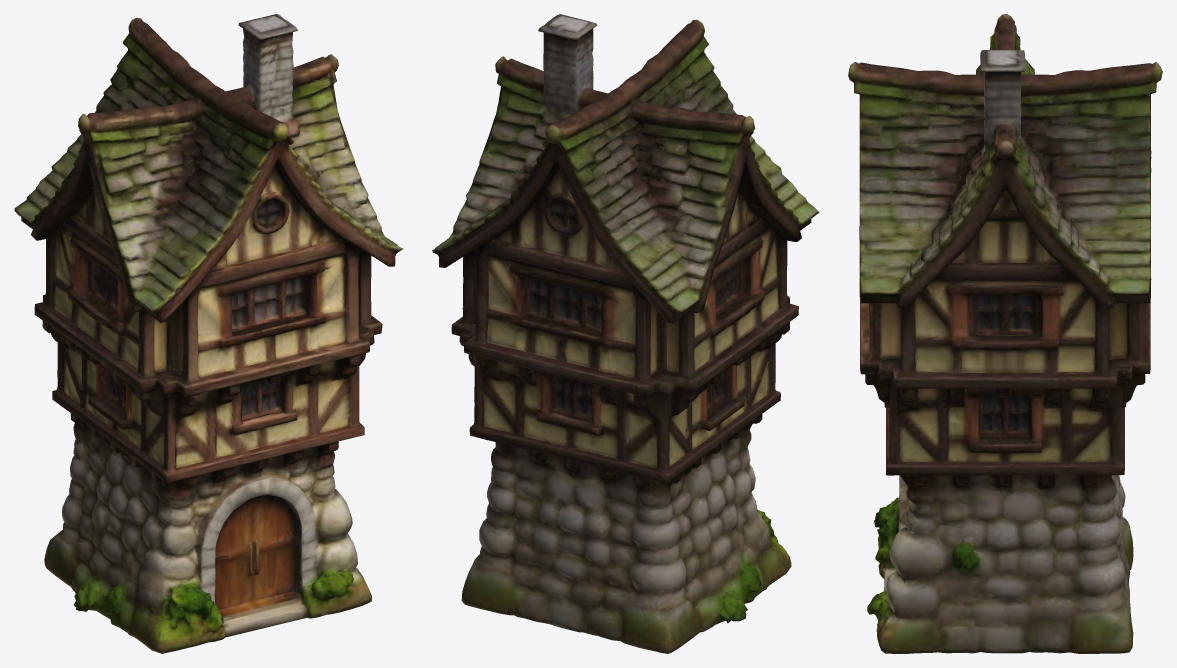
File: torre-madeira.glb
3 renders of one model, left to right at view 1: azimuth 30°, elevation 25°; view 2: azimuth 150°, elevation 25°; view 3: azimuth 270°, elevation 25°, orthographic. The views are drawn at different scales.
Size of the model in its own units: 0.9393 by 1.91 by 0.9497.
1 material, 1 textured.
